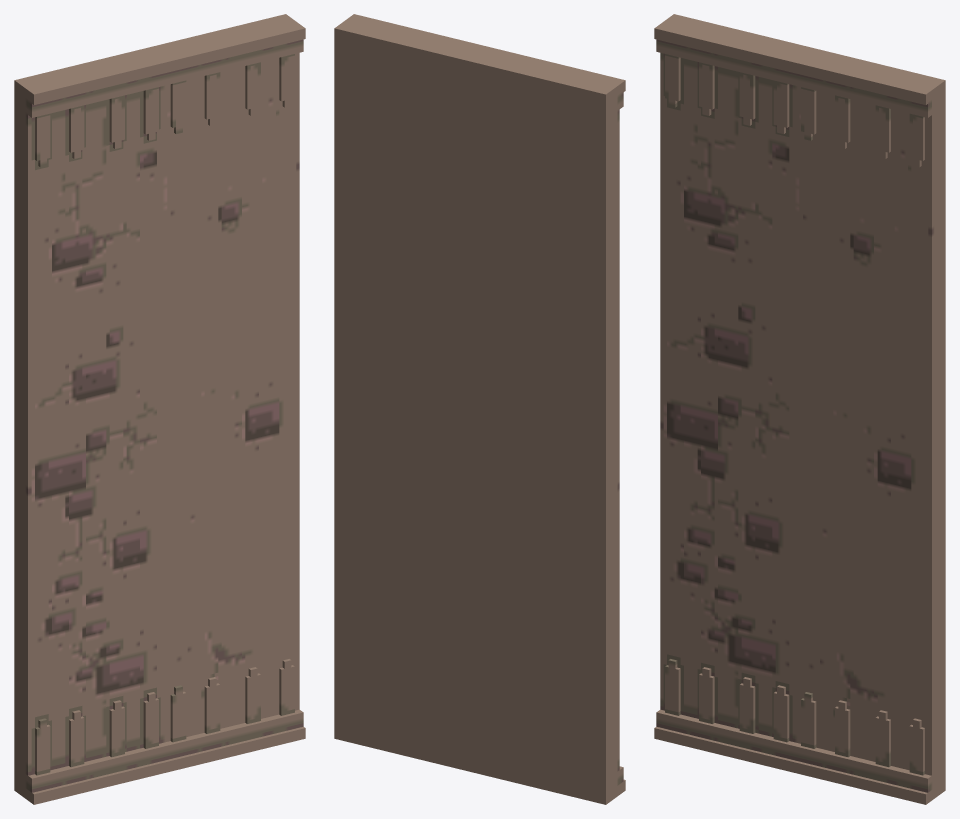
Rendered from Wall_Large-0.fbx.
3 renders of one model, left to right at view 1: azimuth 30°, elevation 25°; view 2: azimuth 150°, elevation 25°; view 3: azimuth 330°, elevation 25°, orthographic.
Visible parts, largest first — view 1: Wall_Large-0; view 2: Wall_Large-0; view 3: Wall_Large-0.
Boxes of the visible parts, x1,y1,x2,y2 form: Wall_Large-0: (14, 14, 305, 804); Wall_Large-0: (334, 14, 625, 804); Wall_Large-0: (654, 14, 945, 804).
Bounding box in the file's own units: 400 × 1000 × 50.
